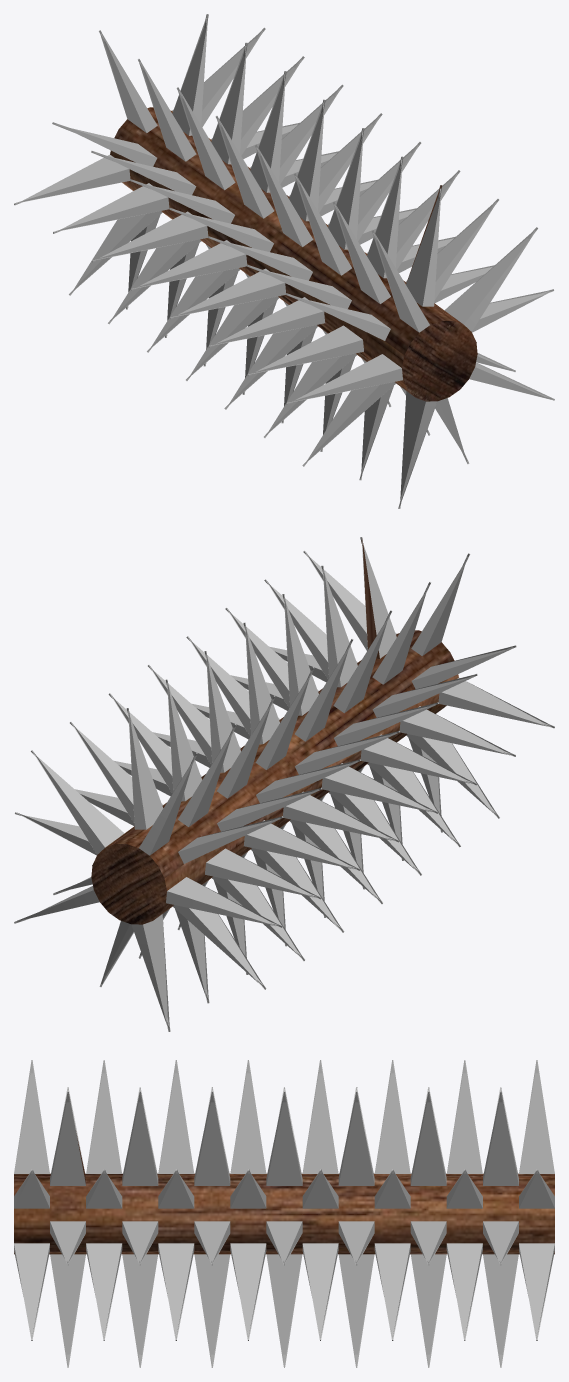
Rendered from spinningSpike.fbx.
3 renders of one model, top to bottom at view 1: azimuth 30°, elevation 25°; view 2: azimuth 150°, elevation 25°; view 3: azimuth 270°, elevation 25°, orthographic. The views are drawn at different scales.
Visible parts, largest first — view 1: pCylinder9; view 2: pCylinder9; view 3: pCylinder9.
Part boxes in pixels (x1,y1,x2,y2): pCylinder9: (14, 14, 554, 508); pCylinder9: (14, 537, 554, 1031); pCylinder9: (14, 1060, 554, 1367).
Bounding box in the file's own units: 5.67 × 5.57 × 10.
